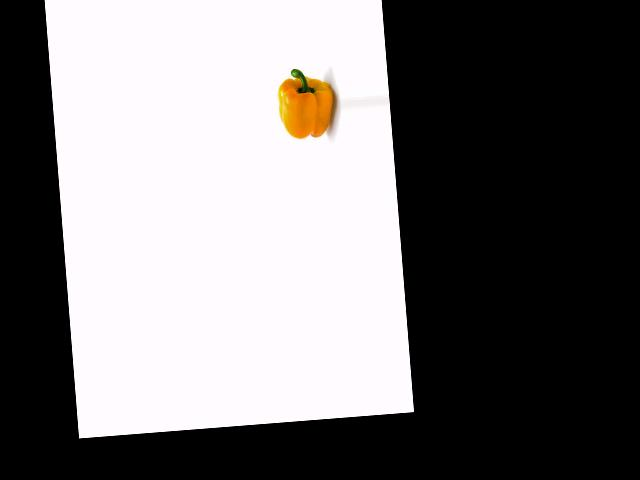bell_pepper: (272, 60, 336, 142)
